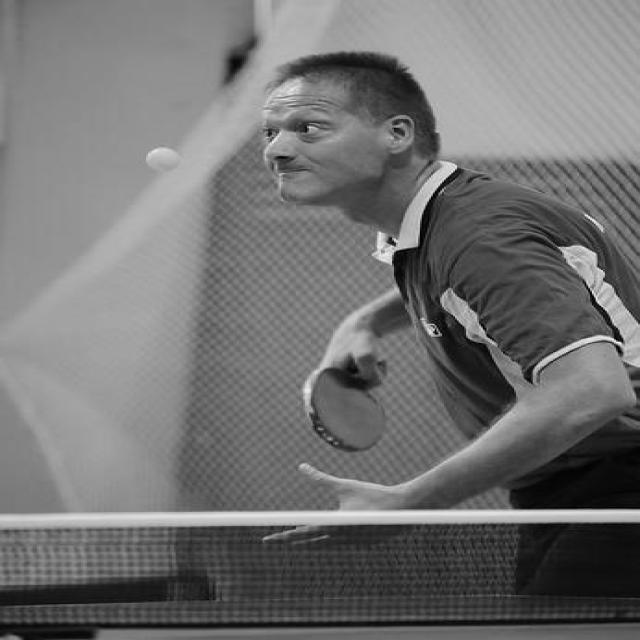ping-pong-ball: (143, 146, 184, 173)
